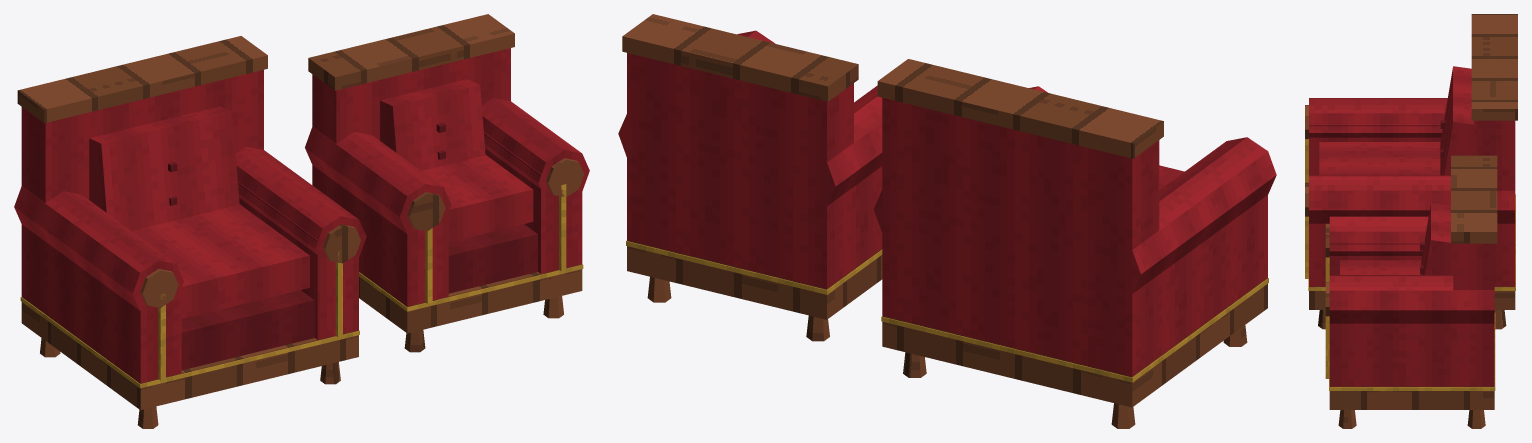
Rendered from armchair.glb.
3 views of the same model, side by side, from view 1: azimuth 30°, elevation 25°; view 2: azimuth 150°, elevation 25°; view 3: azimuth 270°, elevation 25° (orthographic). The views are drawn at different scales.
Parts seen in each view (by area): view 1: Armchairs; view 2: Armchairs; view 3: Armchairs.
Boxes of the visible parts, left/top/right/bottom form: Armchairs: left=14, top=14, right=589, bottom=428; Armchairs: left=618, top=14, right=1276, bottom=428; Armchairs: left=1305, top=14, right=1517, bottom=428.
Bounding box in the file's own units: 1.83 × 0.965 × 0.825.
4 materials, 4 textured.
